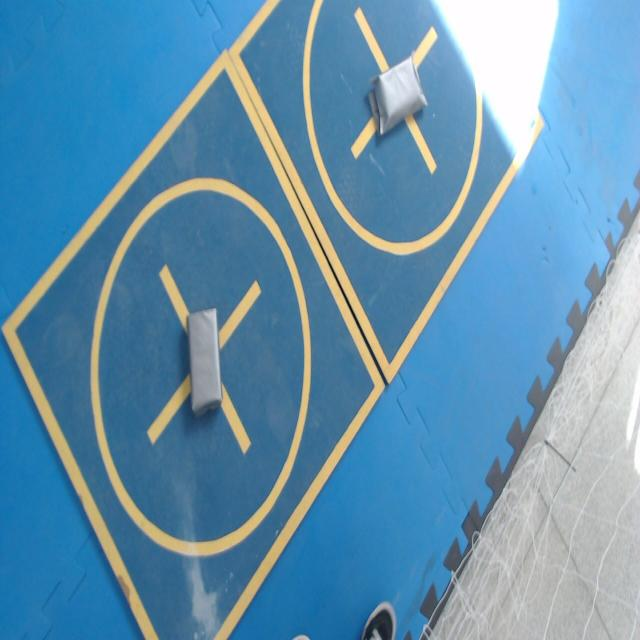lipo: (370, 57, 427, 135), (188, 309, 222, 415)
